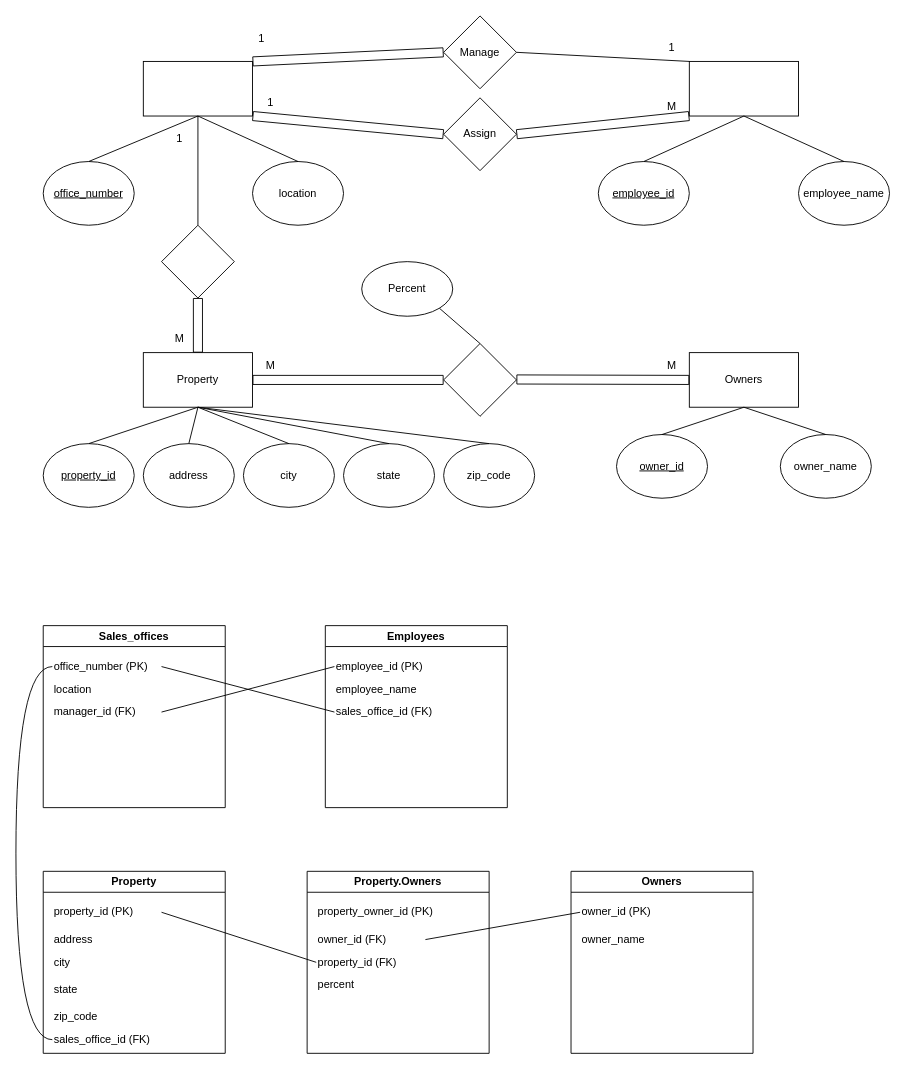
The diagram is 905 pixels wide and 1069 high, and some of its shapes have lost their labels. The shapes that lost their labels are listed below. From the top down, each one's centre as x and y in pixels, then its label:
At (x=197, y=88): "Sales Offices".
At (x=743, y=88): "Employee".
At (x=197, y=261): "Has".
At (x=479, y=379): "Own".
